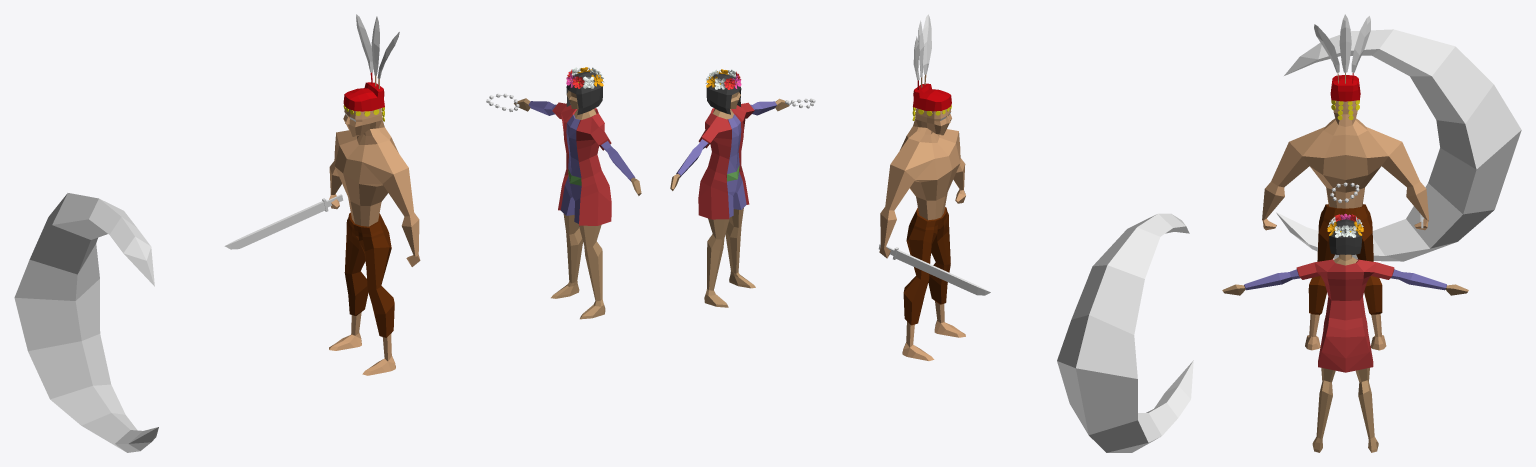
3 views of the same model, side by side, from view 1: azimuth 30°, elevation 25°; view 2: azimuth 150°, elevation 25°; view 3: azimuth 270°, elevation 25° (orthographic). The views are drawn at different scales.
Parts seen in each view (by area): view 1: moon, hunter, villigers, 立方體; view 2: moon, hunter, villigers, 立方體; view 3: moon, hunter, villigers.
Part boxes in pixels (x1,y1,x2,y2): moon: (14,193,158,452); hunter: (329,14,420,375); villigers: (514,72,641,319); 立方體: (224,194,343,249); moon: (1057,213,1193,452); hunter: (879,14,965,360); villigers: (670,73,789,307); 立方體: (878,243,990,295); moon: (1276,29,1521,261); hunter: (1262,14,1428,350); villigers: (1222,219,1468,452).
Bounding box in the file's own units: 5283 × 3618 × 2657.
